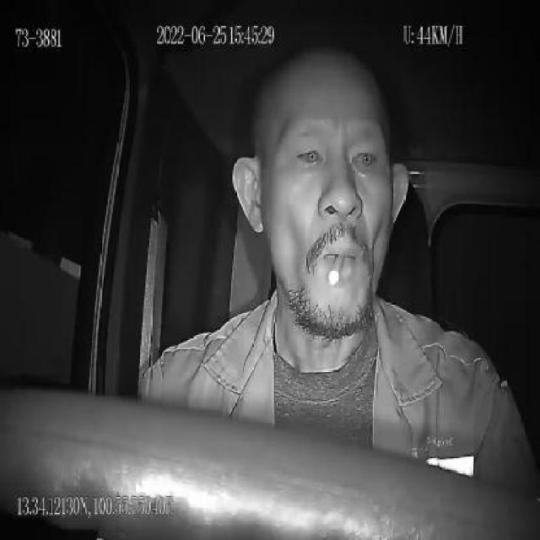smoking: (329, 256, 343, 286)
